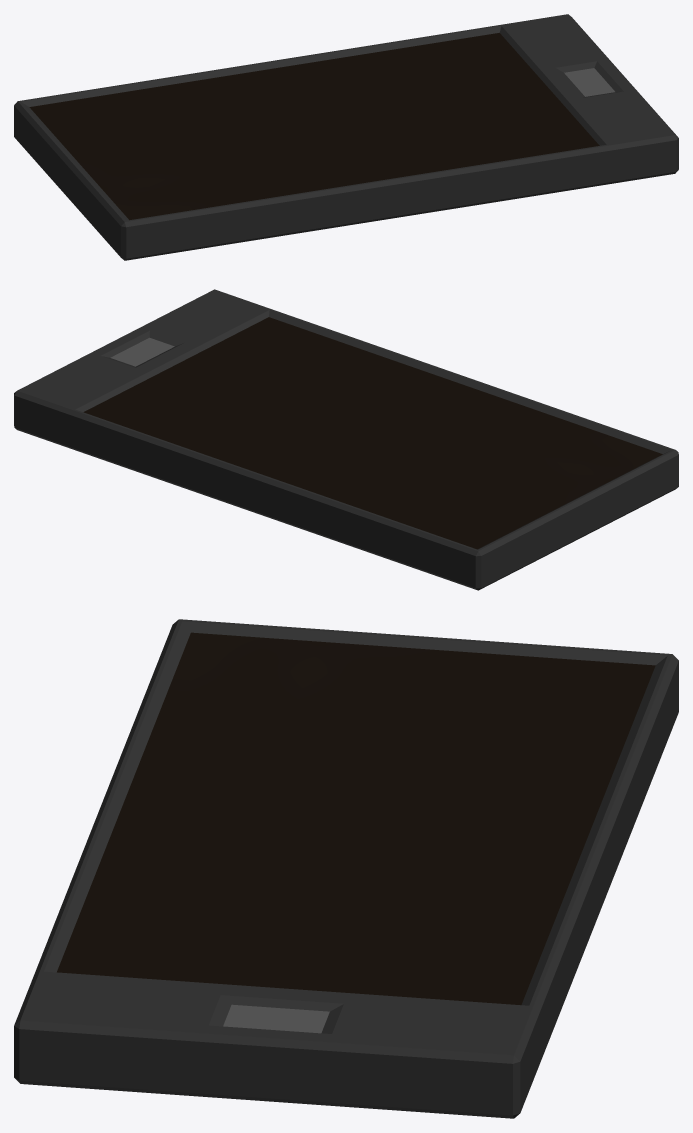
The model's file is phone.gltf.
3 views of the same model, one above another, from view 1: azimuth 30°, elevation 25°; view 2: azimuth 150°, elevation 25°; view 3: azimuth 270°, elevation 25° (orthographic). The views are drawn at different scales.
Visible parts, largest first — view 1: Cell_phone; view 2: Cell_phone; view 3: Cell_phone.
Boxes of the visible parts, box(x1,y1,x2,y2) form: Cell_phone: box(14, 14, 678, 260); Cell_phone: box(14, 289, 678, 590); Cell_phone: box(14, 619, 678, 1118).
Size of the model in its own units: 3.26 by 0.2185 by 2.08.
Materials: 2 (2 with a texture image).
